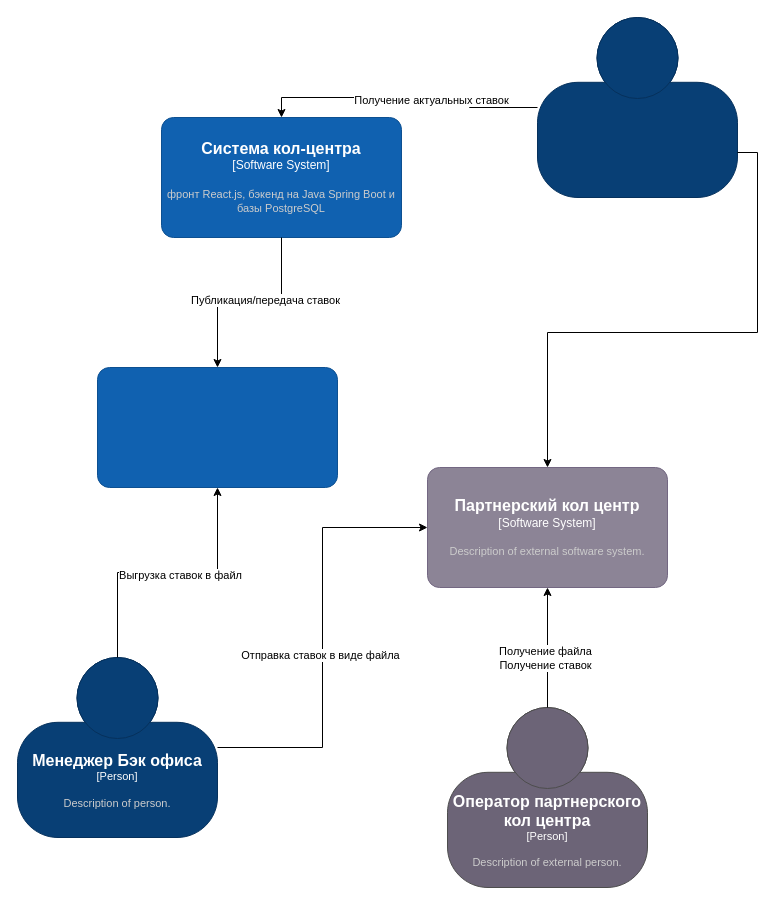
The diagram is 783 pixels wide and 905 high, and some of its shapes have lost their labels. The centre of each missing label's shape, as x and y in pixels:
АБС [Software System] Delphi и СУБД на Oracle: pixel 217 427
Оператор кол-центра [Person] Description of person.: pixel 637 107
